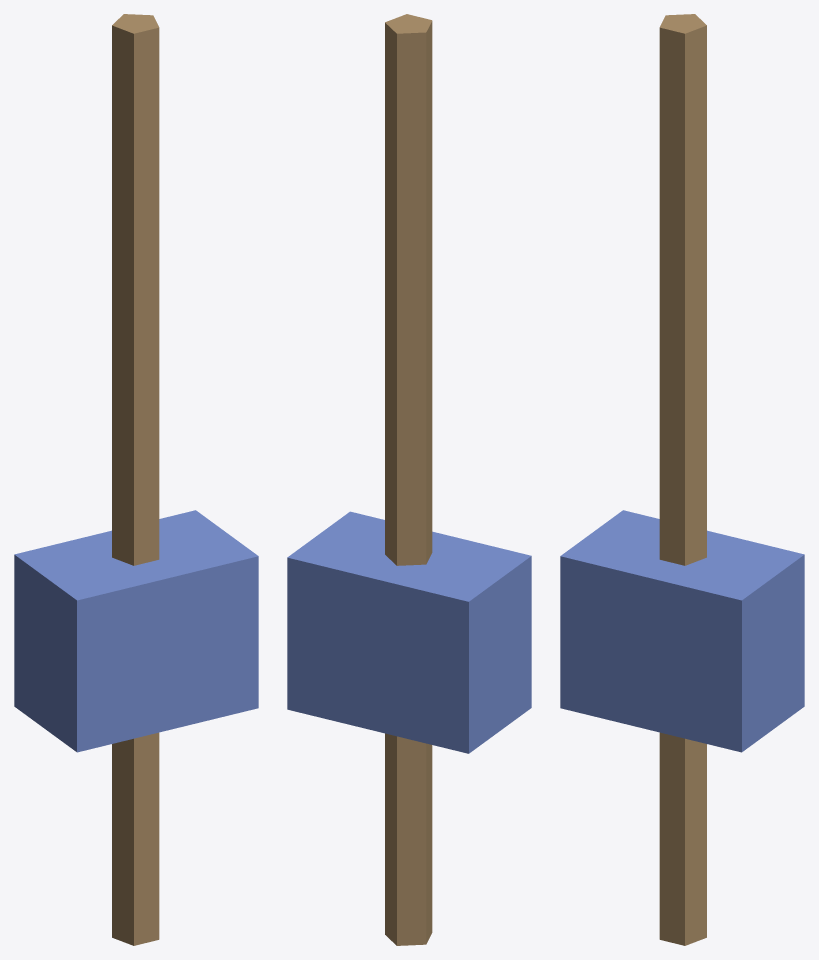
Rendered from broom_brush.glb.
3 renders of one model, left to right at view 1: azimuth 30°, elevation 25°; view 2: azimuth 150°, elevation 25°; view 3: azimuth 330°, elevation 25°, orthographic.
Parts seen in each view (by area): view 1: box, cyl; view 2: box, cyl; view 3: box, cyl.
Boxes of the visible parts, <box> form: box: <box>14,510,258,752</box>; cyl: <box>112,14,159,945</box>; box: <box>287,511,531,753</box>; cyl: <box>385,14,432,945</box>; box: <box>560,510,804,752</box>; cyl: <box>659,14,706,945</box>.
Bounding box in the file's own units: 0.1 × 0.48 × 0.06.
